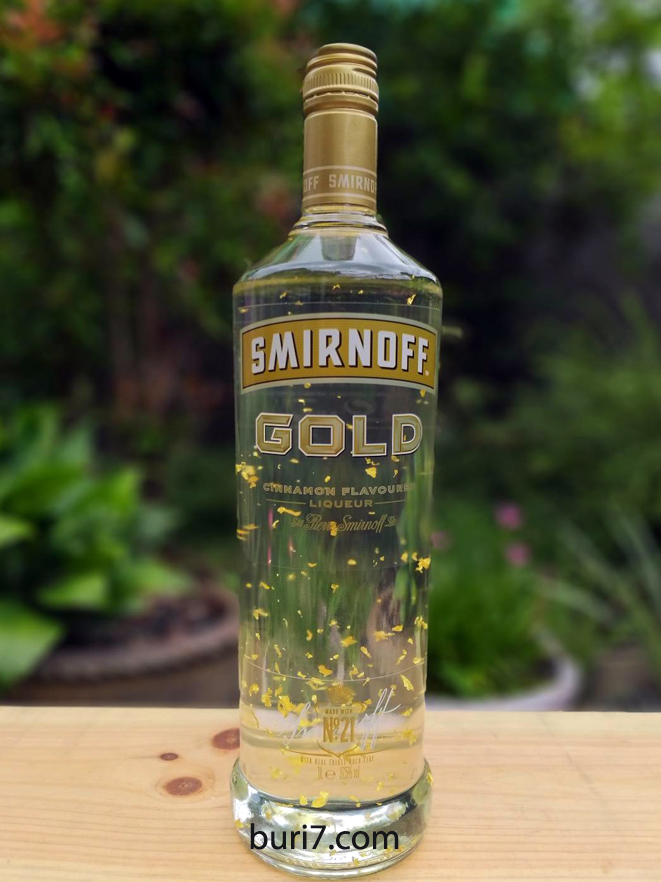Smirnoff: (204, 21, 469, 882)
